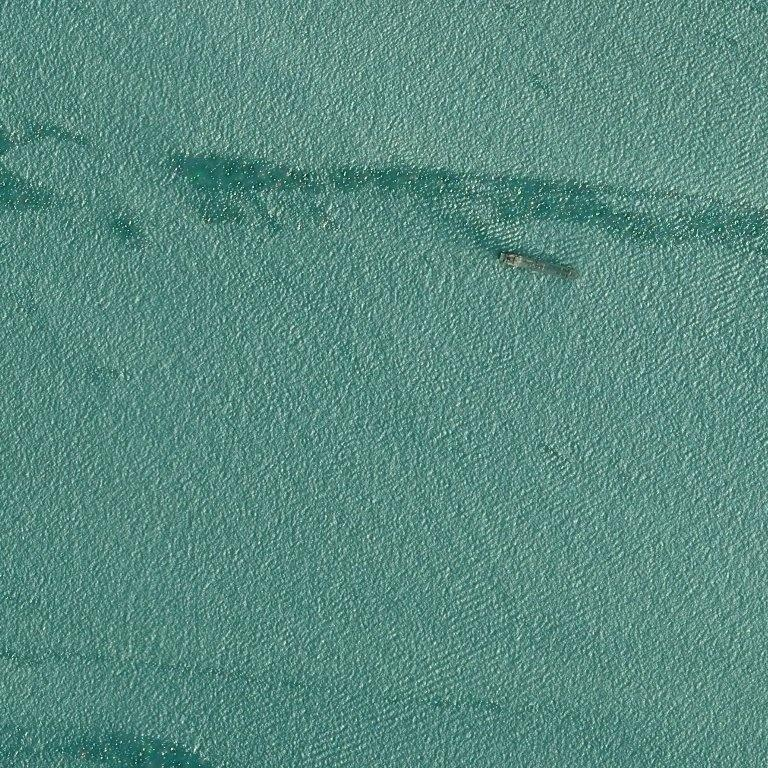ship: (497, 253, 581, 284)
